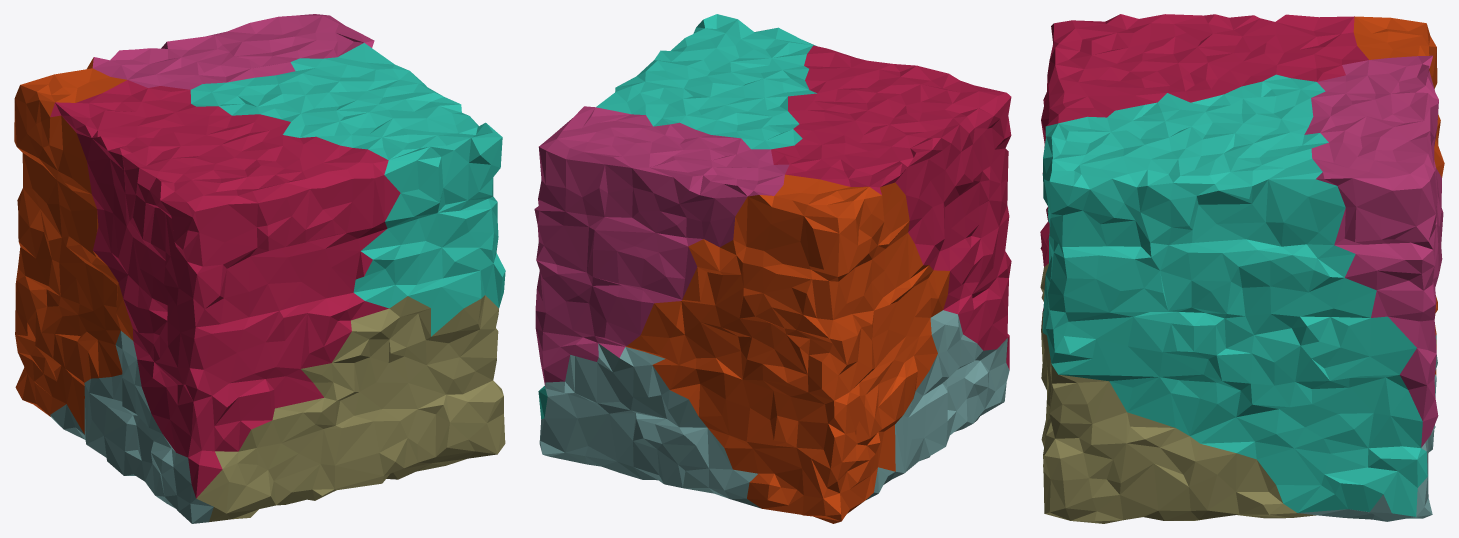
The model's file is CliffGenerator_low.fbx.
3 renders of one model, left to right at view 1: azimuth 30°, elevation 25°; view 2: azimuth 150°, elevation 25°; view 3: azimuth 270°, elevation 25°, orthographic. The views are drawn at different scales.
Visible parts, largest first — view 1: attribwrangle4; view 2: attribwrangle4; view 3: attribwrangle4.
Part boxes in pixels (x1,y1,x2,y2): attribwrangle4: [14, 14, 505, 523]; attribwrangle4: [534, 14, 1011, 523]; attribwrangle4: [1040, 14, 1444, 523].
Bounding box in the file's own units: 10.84 × 10.56 × 10.91.
